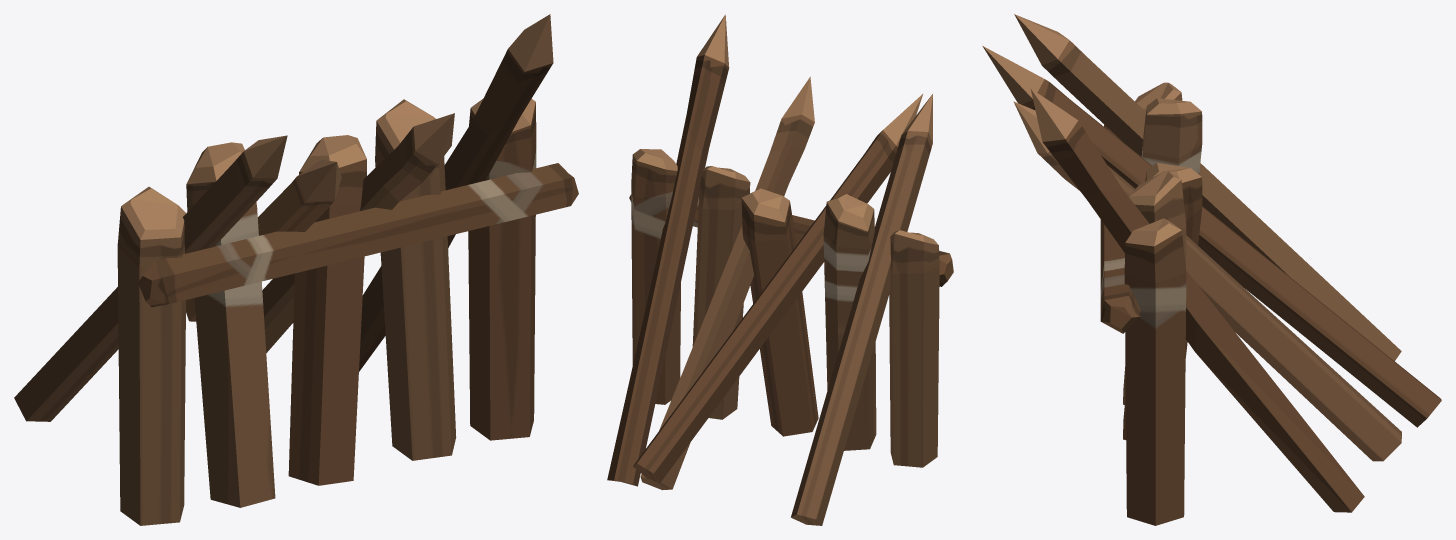
Rendered from bog_spikes_b.gltf.
3 views of the same model, side by side, from view 1: azimuth 30°, elevation 25°; view 2: azimuth 150°, elevation 25°; view 3: azimuth 270°, elevation 25° (orthographic). The views are drawn at different scales.
Parts seen in each view (by area): view 1: bog_spikes_b; view 2: bog_spikes_b; view 3: bog_spikes_b.
Boxes of the visible parts, <box> form: bog_spikes_b: <box>14,14,578,525</box>; bog_spikes_b: <box>607,14,953,525</box>; bog_spikes_b: <box>982,14,1441,525</box>.
Bounding box in the file's own units: 1.59 × 1.78 × 1.68.
Materials: 1 (1 with a texture image).
